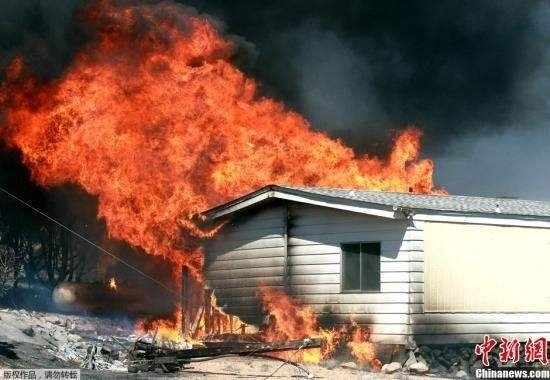fire: (12, 19, 459, 320), (130, 266, 384, 366)
